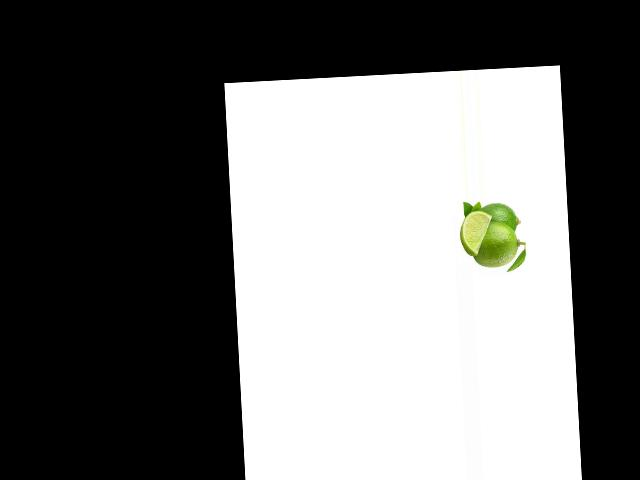lemon: (473, 221, 521, 269)
